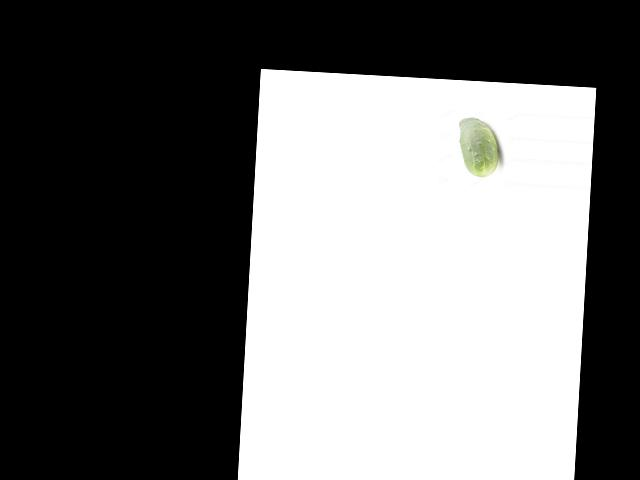cucumber: (456, 116, 501, 178)
